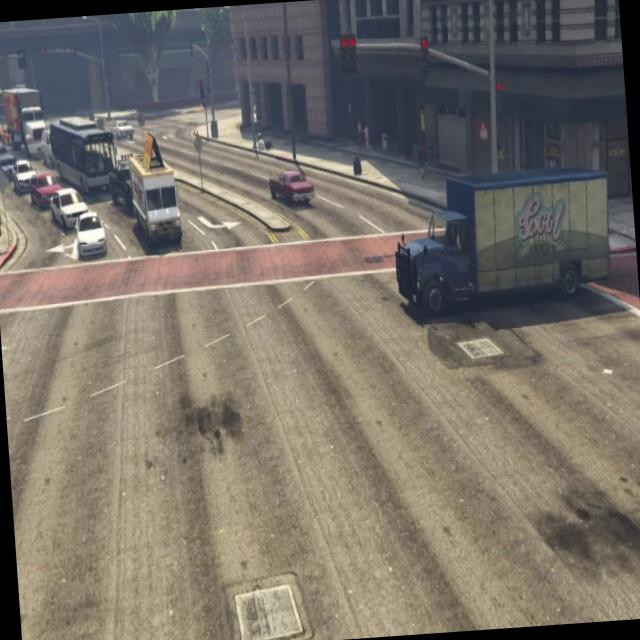Red-Signal: (484, 59, 520, 120), (406, 22, 440, 82), (337, 23, 366, 88)
